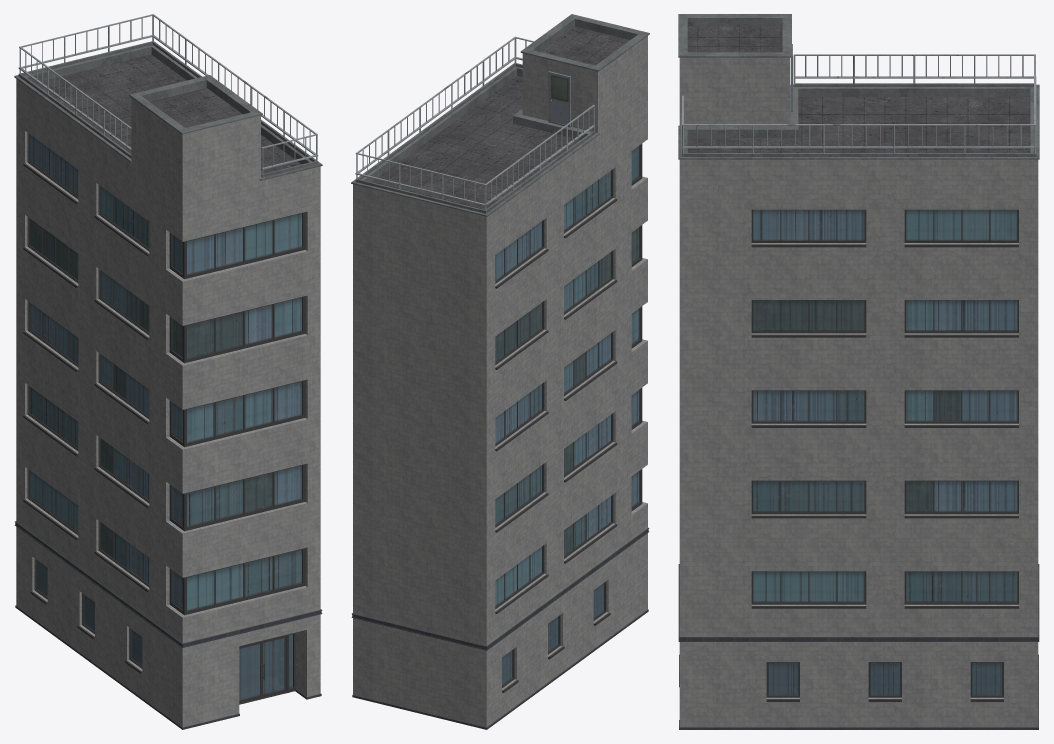
File: jctBld12_6E.fbx
3 views of the same model, side by side, from view 1: azimuth 30°, elevation 25°; view 2: azimuth 150°, elevation 25°; view 3: azimuth 270°, elevation 25° (orthographic). The views are drawn at different scales.
Parts seen in each view (by area): view 1: jctBld12_6E_LOD0; view 2: jctBld12_6E_LOD0; view 3: jctBld12_6E_LOD0.
Part boxes in pixels (x1=…): jctBld12_6E_LOD0: x1=14, y1=14, x2=322, y2=729; jctBld12_6E_LOD0: x1=351, y1=14, x2=649, y2=729; jctBld12_6E_LOD0: x1=678, y1=14, x2=1039, y2=729.
Bounding box in the file's own units: 564 × 2275 × 1160.
